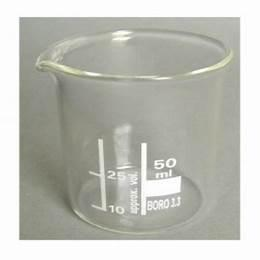Beaker: (32, 32, 233, 234)
